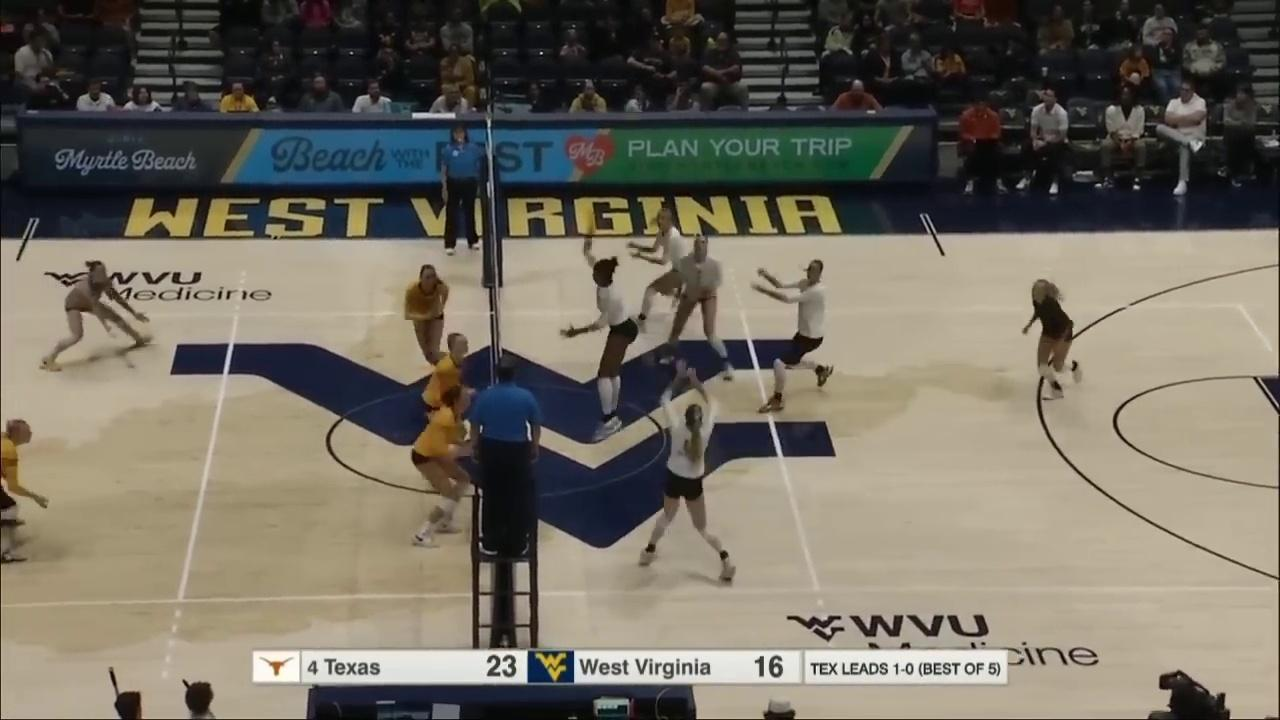player: (635, 394, 737, 583), (754, 257, 837, 413), (44, 260, 156, 372), (660, 235, 741, 383), (581, 247, 635, 437), (410, 386, 470, 547), (623, 206, 699, 331), (418, 333, 477, 489), (1023, 277, 1084, 405), (0, 413, 51, 565), (405, 265, 452, 387)
refree: (480, 361, 539, 557), (436, 126, 484, 253)
